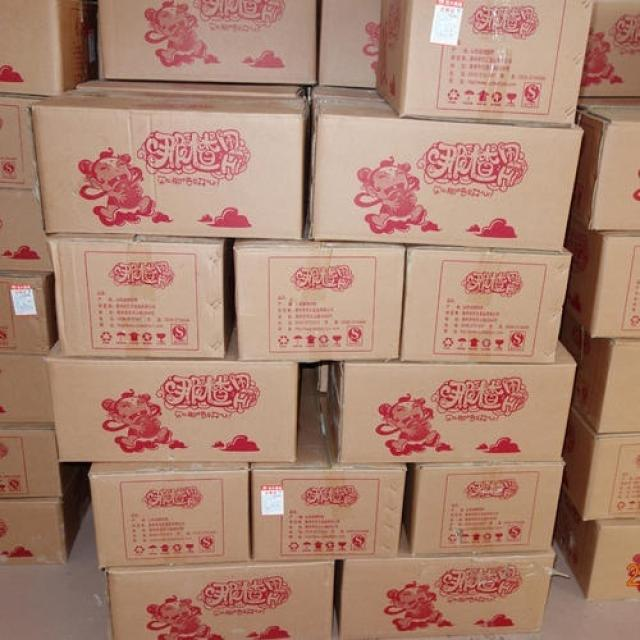Carton: (28, 101, 582, 462), (95, 466, 399, 639), (396, 0, 599, 122), (337, 358, 567, 460), (343, 554, 544, 639), (403, 457, 558, 550)
